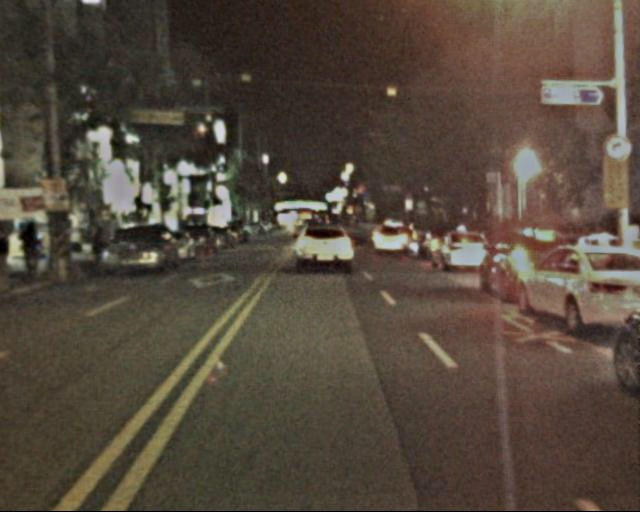person: (19, 218, 57, 279)
